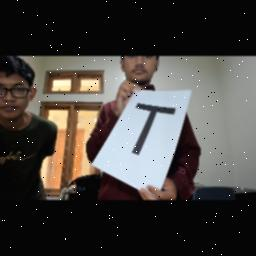t: (123, 102, 181, 162)
